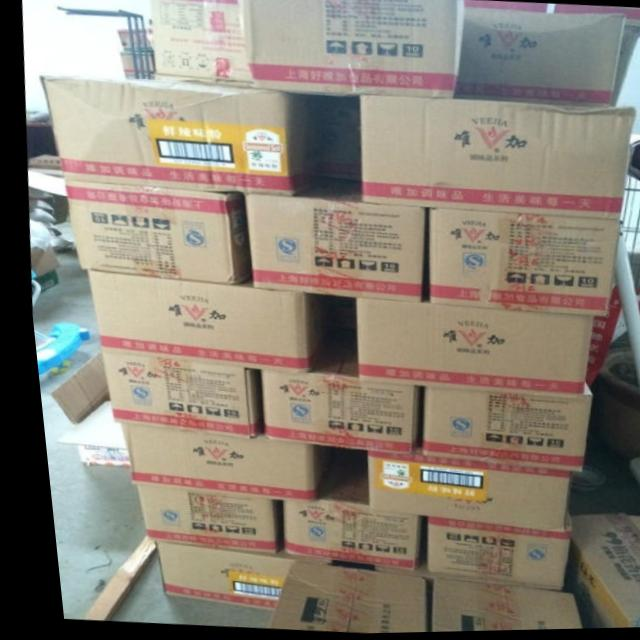box: (357, 98, 633, 222), (38, 74, 309, 197), (350, 299, 587, 402), (80, 270, 314, 374), (238, 0, 463, 100), (240, 180, 420, 305), (423, 209, 614, 319), (60, 180, 244, 285), (452, 8, 624, 108), (357, 450, 559, 535), (252, 355, 409, 456), (113, 423, 308, 504), (412, 387, 583, 474), (95, 352, 249, 440), (271, 476, 408, 572), (143, 540, 319, 611), (254, 561, 413, 634), (415, 514, 561, 589), (557, 515, 640, 631), (126, 485, 266, 553), (418, 579, 568, 634), (150, 0, 249, 82)
